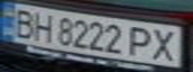2: (103, 20, 130, 55), (87, 19, 109, 53), (69, 17, 90, 50)
8: (51, 15, 75, 47)
B: (6, 7, 39, 39)
H: (30, 10, 57, 43)
P: (124, 24, 157, 58)
X: (148, 26, 184, 62)
